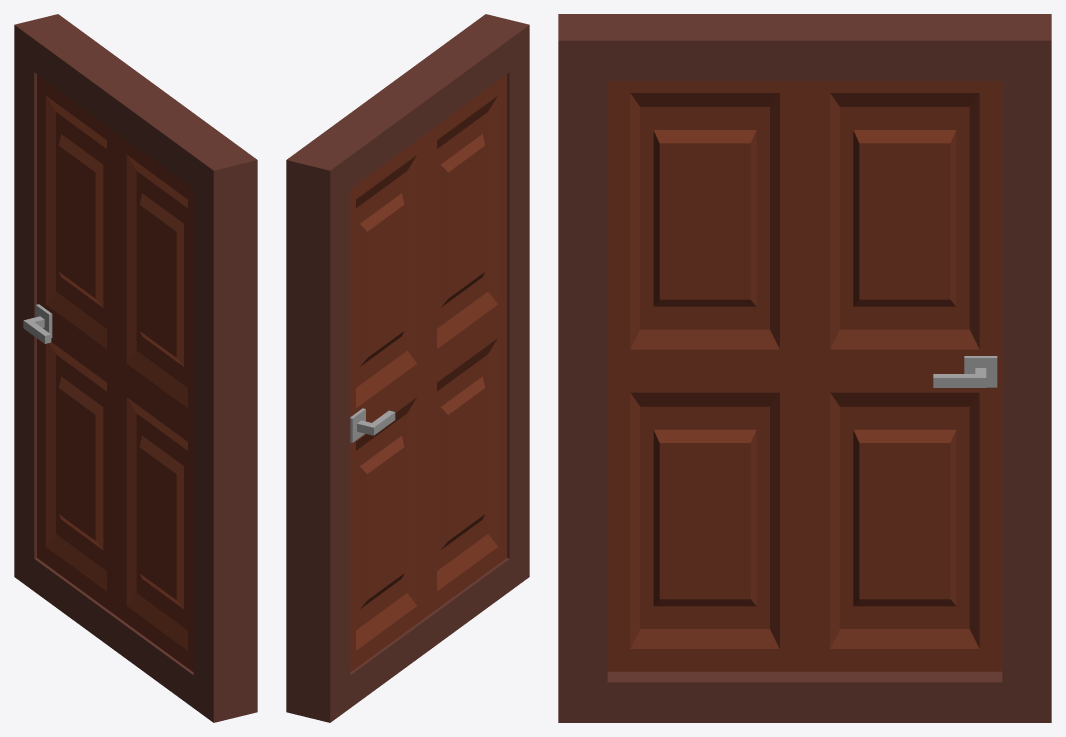
3 renders of one model, left to right at view 1: azimuth 30°, elevation 25°; view 2: azimuth 150°, elevation 25°; view 3: azimuth 270°, elevation 25°, orthographic. The views are drawn at different scales.
Parts seen in each view (by area): view 1: Cube, Cube.001, Cube.002; view 2: Cube, Cube.001, Cube.002; view 3: Cube, Cube.001, Cube.002.
Boxes of the visible parts, box(x1,y1,x2,y2) form: Cube: box(37, 74, 193, 672); Cube.001: box(14, 14, 257, 722); Cube.002: box(23, 304, 52, 343); Cube: box(350, 74, 506, 672); Cube.001: box(286, 14, 529, 722); Cube.002: box(350, 408, 395, 442); Cube: box(607, 81, 1002, 671); Cube.001: box(558, 14, 1051, 722); Cube.002: box(933, 356, 997, 387).
Size of the model in its own units: 50.24 by 420 by 275.
